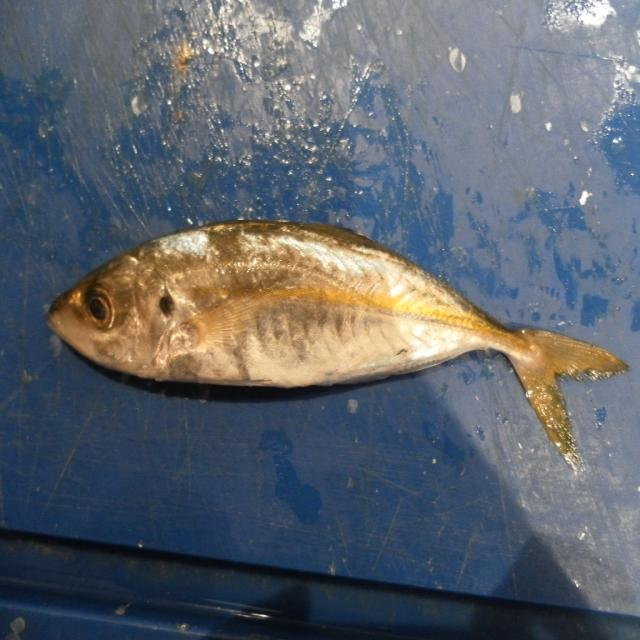Hourse-Mackerel-istavrit-: (45, 220, 628, 472)
